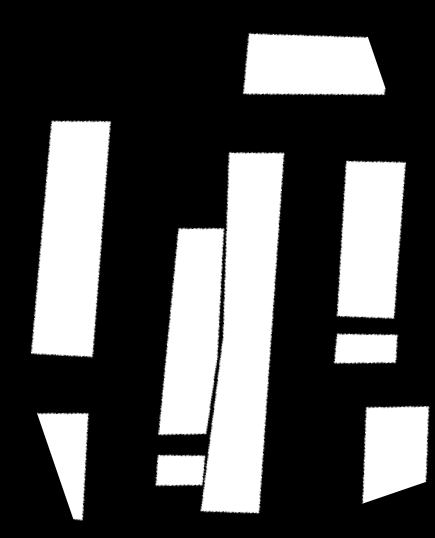parkingspot: (201, 152, 285, 513), (31, 121, 111, 357), (158, 228, 224, 435), (337, 161, 406, 319), (243, 33, 386, 95), (362, 406, 429, 503), (37, 413, 89, 520), (334, 333, 398, 364), (155, 455, 205, 486)
